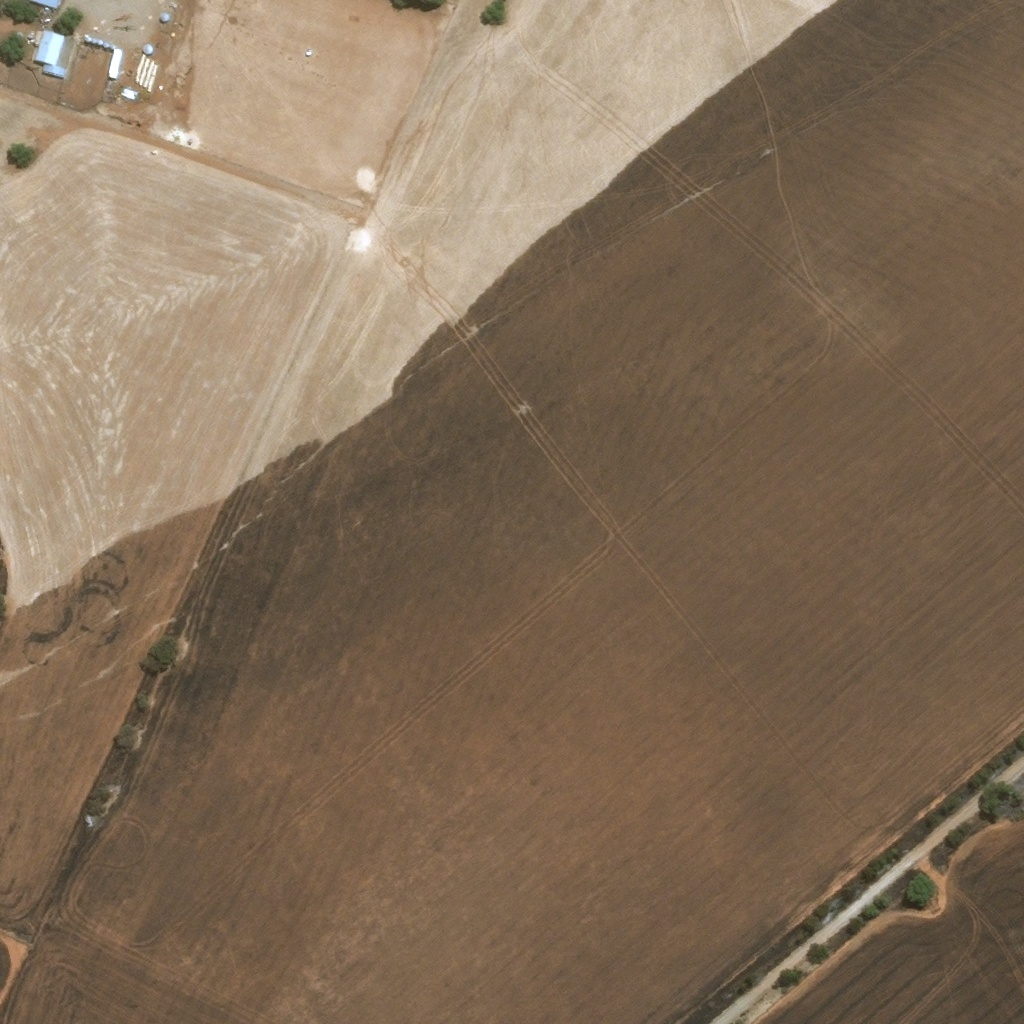0 no-damage: (33, 29, 65, 77), (85, 35, 115, 48), (108, 47, 120, 76), (118, 89, 134, 99), (142, 43, 153, 54), (160, 12, 168, 21)
4 un-classified: (180, 50, 189, 59), (132, 47, 142, 55)
